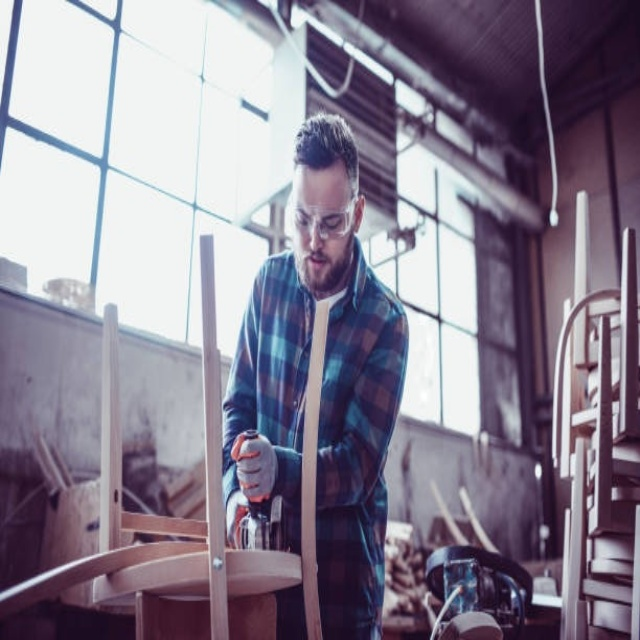Gafas: (288, 191, 359, 241)
Guantes: (235, 432, 278, 500)
Sin_mascara: (300, 246, 329, 285)
